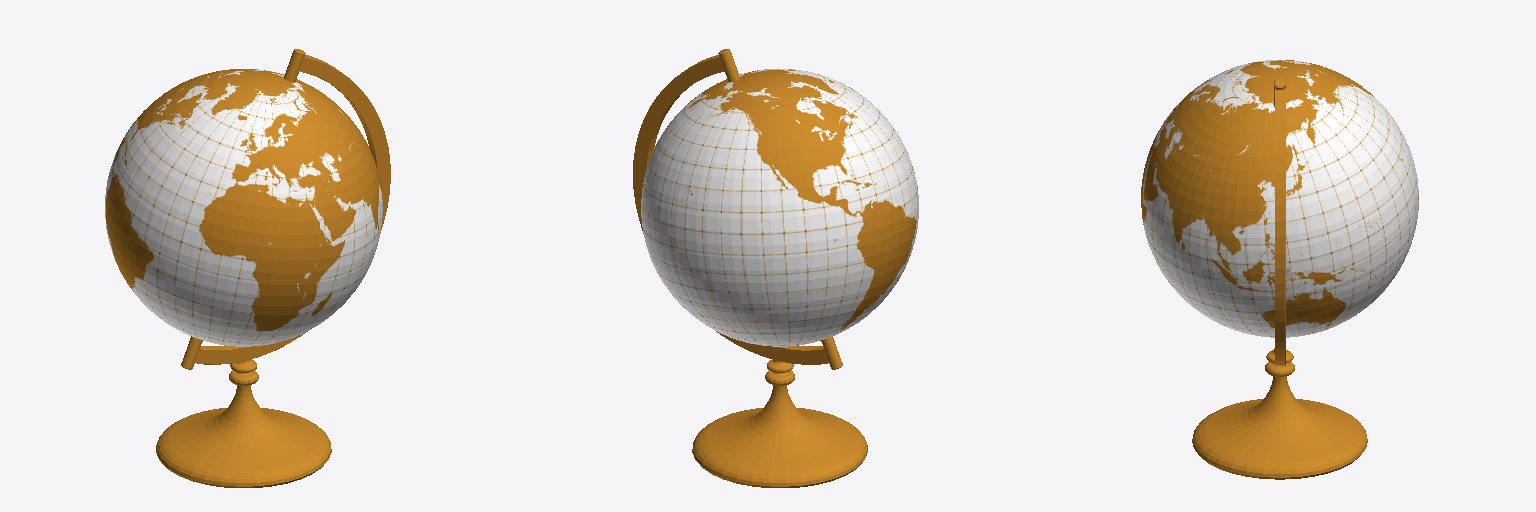
The picture shows the model from 3 angles: view 1: azimuth 30°, elevation 25°; view 2: azimuth 150°, elevation 25°; view 3: azimuth 270°, elevation 25°; orthographic projection.
Visible parts, largest first — view 1: Object_8_Object_2; view 2: Object_8_Object_2; view 3: Object_8_Object_2.
Boxes of the visible parts, box(x1,y1,x2,y2) form: Object_8_Object_2: box(105, 49, 390, 487); Object_8_Object_2: box(633, 49, 918, 487); Object_8_Object_2: box(1141, 60, 1418, 479).
Size of the model in its own units: 2.2 by 3.12 by 2.
1 materials, 1 textured.